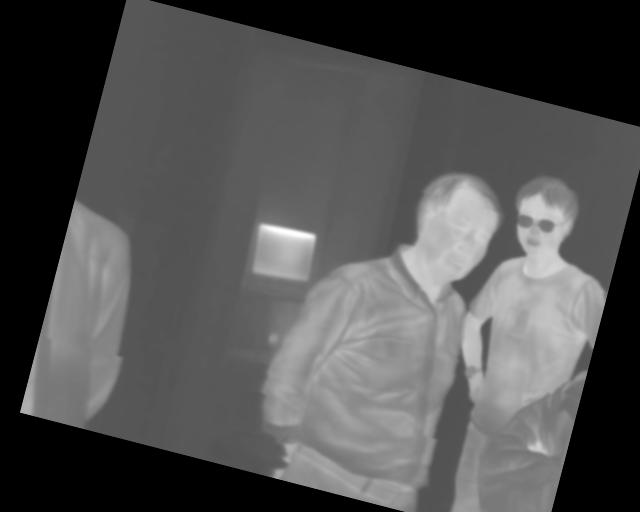face: (400, 162, 511, 291), (503, 168, 586, 265)
